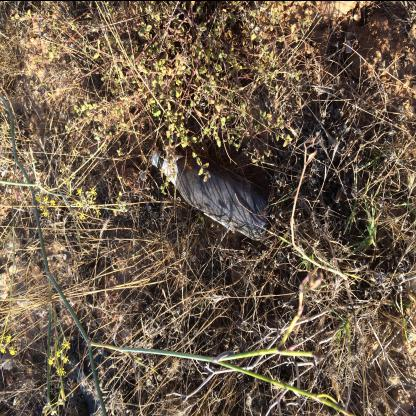cam: (150, 148, 270, 240)
